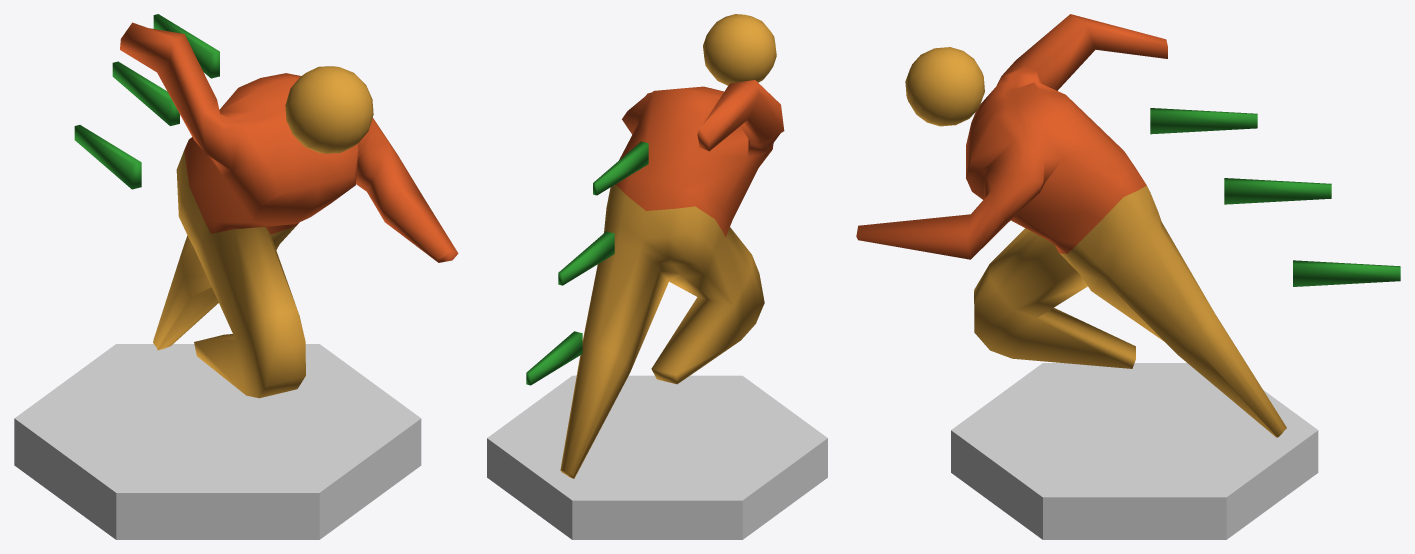
The model's file is Speed.glb.
3 renders of one model, left to right at view 1: azimuth 30°, elevation 25°; view 2: azimuth 150°, elevation 25°; view 3: azimuth 270°, elevation 25°, orthographic. The views are drawn at different scales.
Parts seen in each view (by area): view 1: Sphere.008; view 2: Sphere.008; view 3: Sphere.008.
Part boxes in pixels (<box>): Sphere.008: <box>14,14,458,539</box>; Sphere.008: <box>487,14,827,539</box>; Sphere.008: <box>856,14,1400,539</box>.
Bounding box in the file's own units: 1.59 × 2.35 × 2.73.
